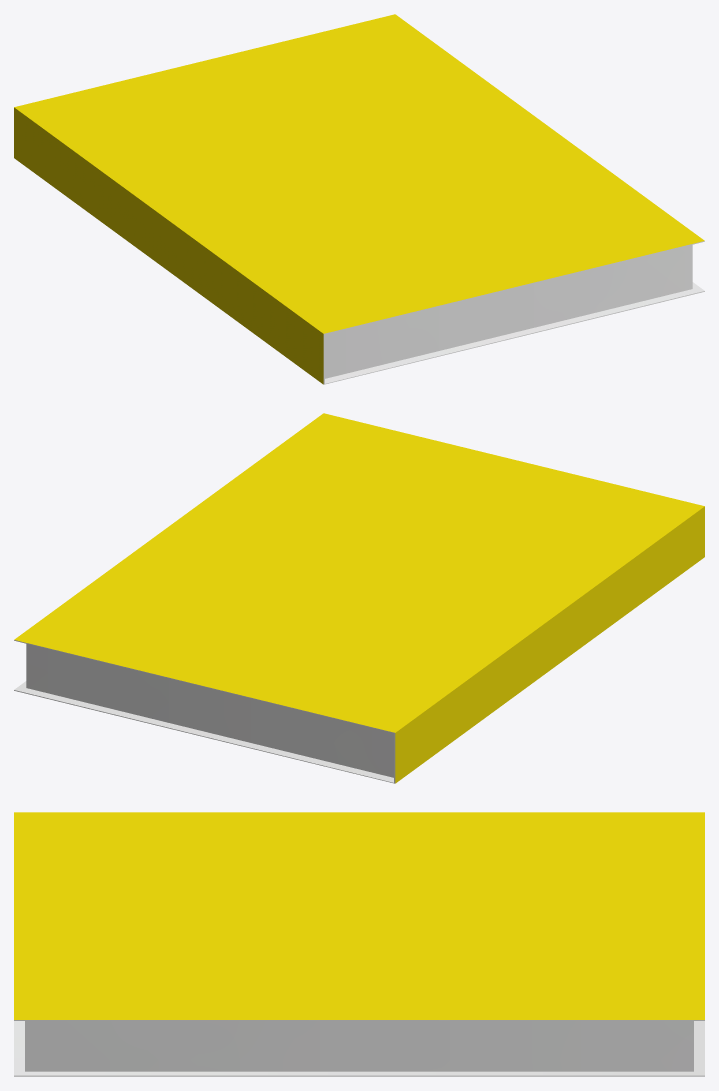
Rendered from Book_03.fbx.
3 renders of one model, top to bottom at view 1: azimuth 30°, elevation 25°; view 2: azimuth 150°, elevation 25°; view 3: azimuth 270°, elevation 25°, orthographic. The views are drawn at different scales.
Visible parts, largest first — view 1: Book_03; view 2: Book_03; view 3: Book_03.
Part boxes in pixels (x1,y1,x2,y2): Book_03: (14,14,704,384); Book_03: (14,413,704,783); Book_03: (14,812,704,1076).
Bounding box in the file's own units: 21.61 × 2.75 × 30.4.
